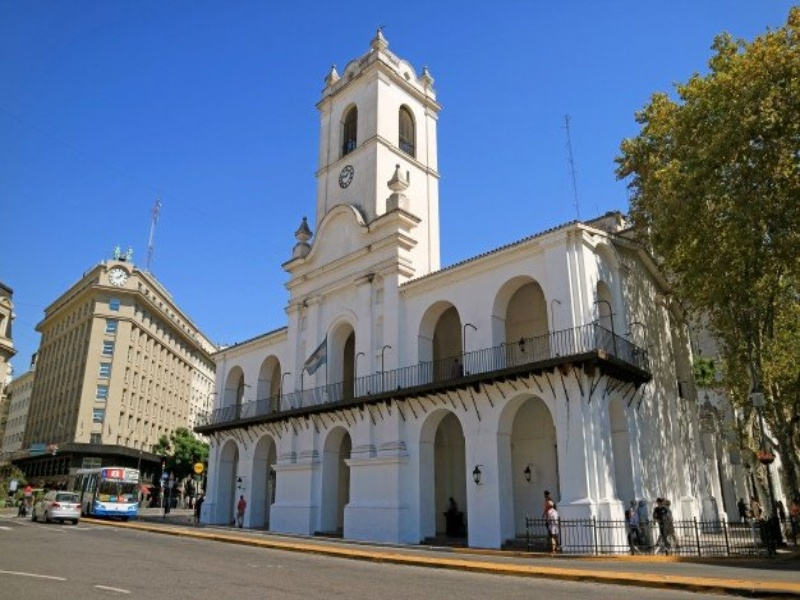cabildo: (193, 24, 655, 560)
